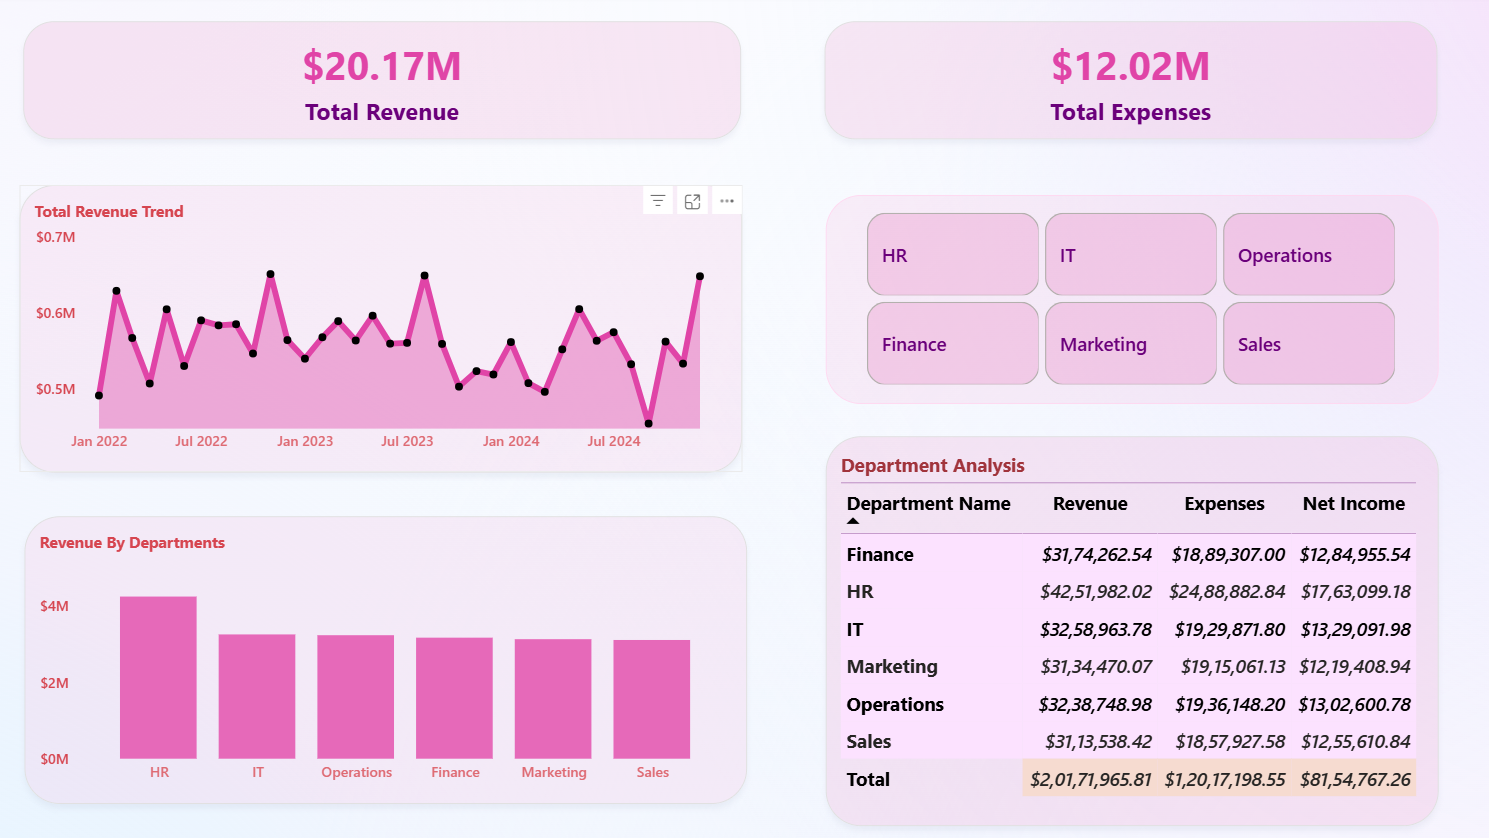

Layout of this report page (visuals, bound fields, positions):
{"tool":"powerbi","page":{"name":"Executive Summary","canvas":[1280,720],"ordinal":0},"visuals":[{"type":"card","fields":{"Values":["_Measures.Total Expenses"]},"box":[706.5,17.7,523.2,101.1],"z":0},{"type":"lineChart","title":"Total Revenue Trend","fields":{"Category":["Dim_Date.Date"],"Y":["_Measures.Total Revenue"]},"box":[19.4,157.9,617,245.4],"z":1000},{"type":"pivotTable","title":"Department Analysis","fields":{"Rows":["Dim_Department.DeptName"],"Values":["_Measures.Total Revenue","_Measures.Total Expenses","_Measures.Net Income"]},"box":[706.9,372.9,523.5,332.8],"z":2000},{"type":"card","fields":{"Values":["_Measures.Total Revenue"]},"box":[22.7,17.7,613,101.1],"z":3000},{"type":"clusteredColumnChart","title":"Revenue By Departments","fields":{"Category":["Dim_Department.DeptName"],"Y":["_Measures.Total Revenue"]},"box":[23.1,440.9,617,245.4],"z":7000},{"type":"advancedSlicerVisual","title":"Revenue By Departments","fields":{"Values":["Dim_Department.DeptName"]},"box":[706.9,166.4,523.5,178.6],"z":8000}]}

Visuals, with their boxes in screenshot pixels (x1, y1, x2, y2), scaled from the page's 1280x720 canvas onto the 1489x838 screenshot:
card - _Measures.Total Expenses: {"x1": 822, "y1": 21, "x2": 1430, "y2": 138}
"Total Revenue Trend" lineChart: {"x1": 23, "y1": 184, "x2": 740, "y2": 469}
"Department Analysis" pivotTable: {"x1": 822, "y1": 434, "x2": 1431, "y2": 821}
card - _Measures.Total Revenue: {"x1": 26, "y1": 21, "x2": 739, "y2": 138}
"Revenue By Departments" clusteredColumnChart: {"x1": 27, "y1": 513, "x2": 745, "y2": 799}
"Revenue By Departments" advancedSlicerVisual: {"x1": 822, "y1": 194, "x2": 1431, "y2": 402}
